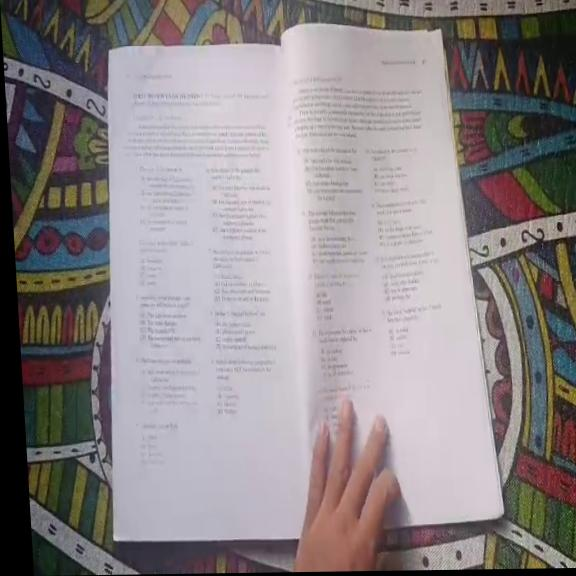Kertas: (282, 18, 500, 537), (90, 36, 313, 541)
